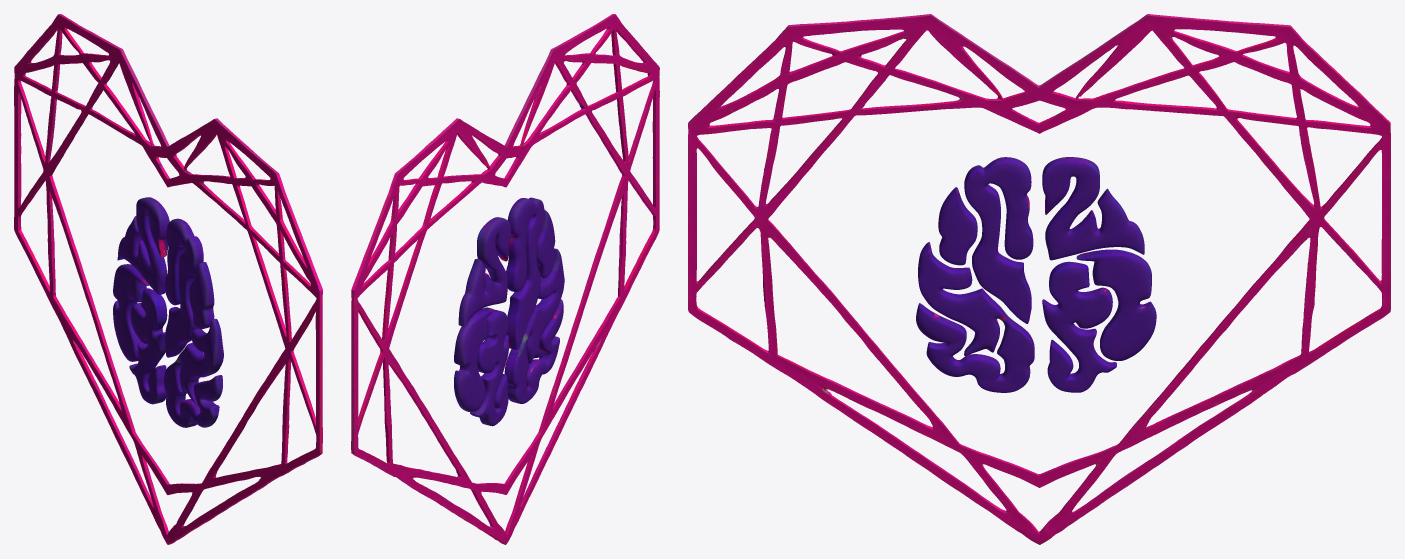
Rendered from heart+with+brain+3d+model.glb.
The picture shows the model from 3 angles, left to right: view 1: azimuth 30°, elevation 25°; view 2: azimuth 150°, elevation 25°; view 3: azimuth 270°, elevation 25°; orthographic projection. The views are drawn at different scales.
Parts seen in each view (by area): view 1: tripo_node_e3e82a18-366d-4728-b3cc-4fb0b3631d1c; view 2: tripo_node_e3e82a18-366d-4728-b3cc-4fb0b3631d1c; view 3: tripo_node_e3e82a18-366d-4728-b3cc-4fb0b3631d1c.
Boxes of the visible parts, <box> form: tripo_node_e3e82a18-366d-4728-b3cc-4fb0b3631d1c: <box>14,14,322,544</box>; tripo_node_e3e82a18-366d-4728-b3cc-4fb0b3631d1c: <box>351,14,659,544</box>; tripo_node_e3e82a18-366d-4728-b3cc-4fb0b3631d1c: <box>688,14,1390,544</box>.
Bounding box in the file's own units: 0.0232 × 0.8319 × 1.
1 material, 1 textured.
